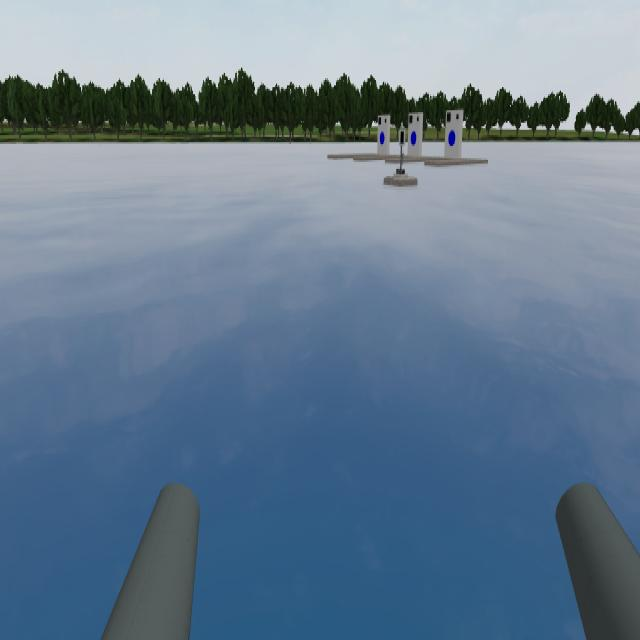black_pole: (394, 119, 418, 161)
